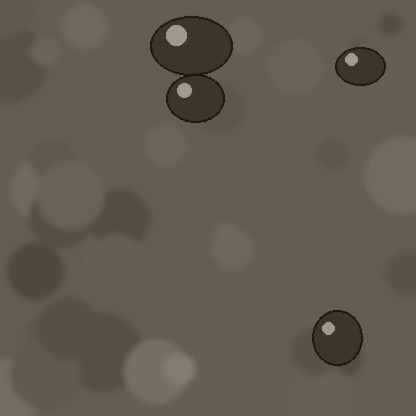gota: (150, 18, 232, 80), (166, 76, 224, 126), (312, 312, 362, 370), (335, 48, 385, 88)
